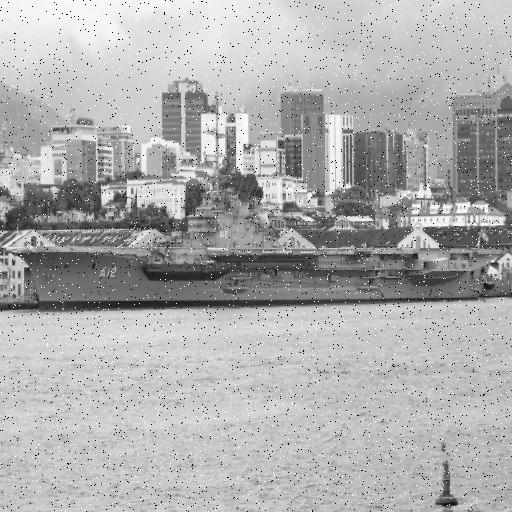Portanaves: (6, 144, 502, 316)
